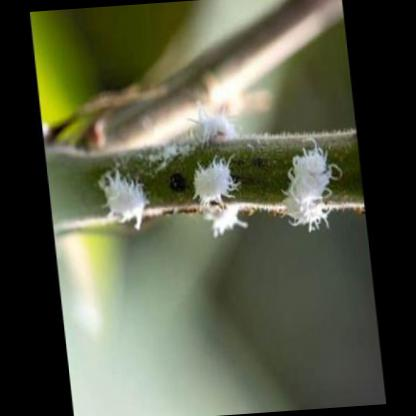mealy bug: (288, 154, 330, 209), (103, 172, 150, 219), (192, 162, 233, 204), (190, 110, 234, 147)
